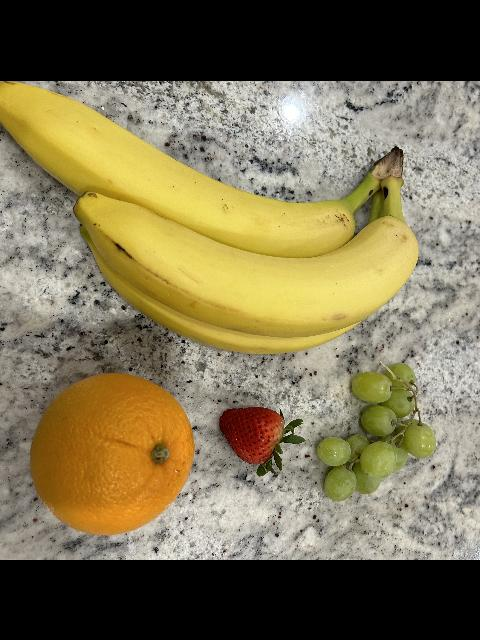Bananas: (0, 80, 421, 354)
Grapes: (319, 360, 437, 500)
Oranges: (32, 372, 196, 534)
Strawberries: (218, 405, 305, 481)
